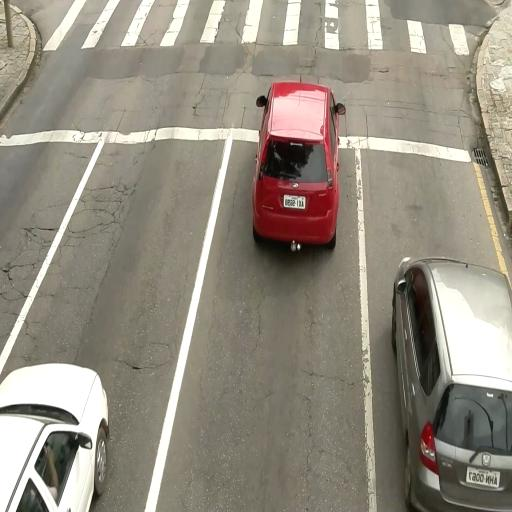car: (391, 257, 512, 508), (0, 363, 110, 511), (250, 78, 343, 252)
